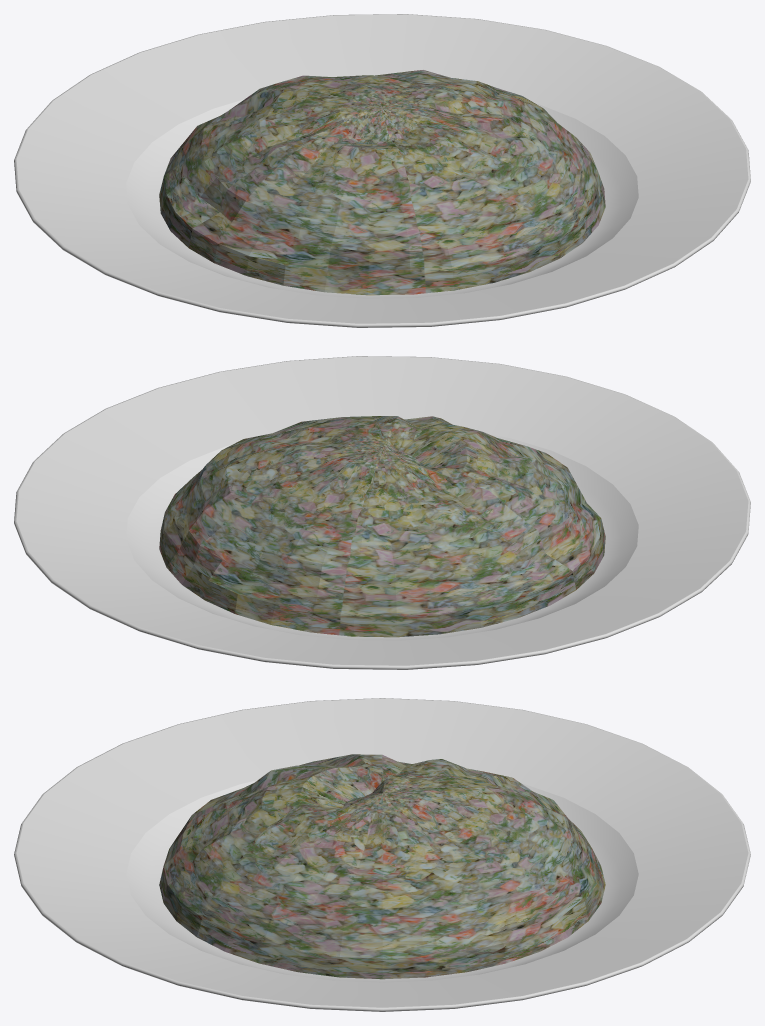
The model's file is olivie1.fbx.
The picture shows the model from 3 angles, top to bottom: view 1: azimuth 30°, elevation 25°; view 2: azimuth 150°, elevation 25°; view 3: azimuth 270°, elevation 25°; orthographic projection.
Parts seen in each view (by area): view 1: asiete, Sphere; view 2: asiete, Sphere; view 3: asiete, Sphere.
Boxes of the visible parts, left/top/right/bottom form: asiete: left=14, top=14, right=750, bottom=327; Sphere: left=159, top=70, right=605, bottom=295; asiete: left=14, top=356, right=750, bottom=669; Sphere: left=159, top=416, right=605, bottom=637; asiete: left=14, top=698, right=750, bottom=1011; Sphere: left=159, top=754, right=605, bottom=979.
Size of the model in its own units: 563 by 88.77 by 563.
Materials: 1 (1 with a texture image).
